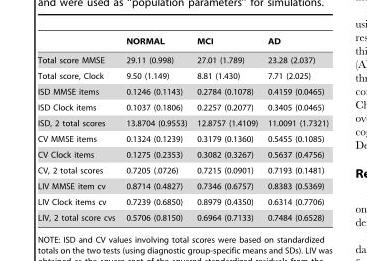table: (37, 36, 328, 221)
table column: (37, 36, 119, 221), (119, 36, 191, 221), (191, 36, 262, 221), (262, 36, 328, 221)
table column header: (37, 36, 328, 50)
table row: (37, 50, 328, 67), (37, 67, 328, 83), (37, 83, 328, 99), (37, 99, 328, 115), (37, 130, 328, 146), (37, 146, 328, 162), (37, 162, 328, 178), (37, 193, 328, 209), (37, 115, 328, 130), (37, 178, 328, 193), (37, 36, 328, 50), (37, 209, 328, 221)
